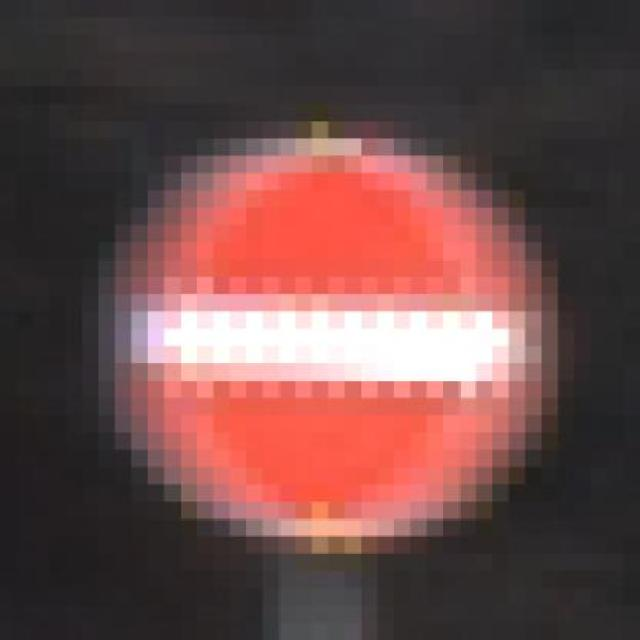No Entry: (65, 103, 558, 554)
